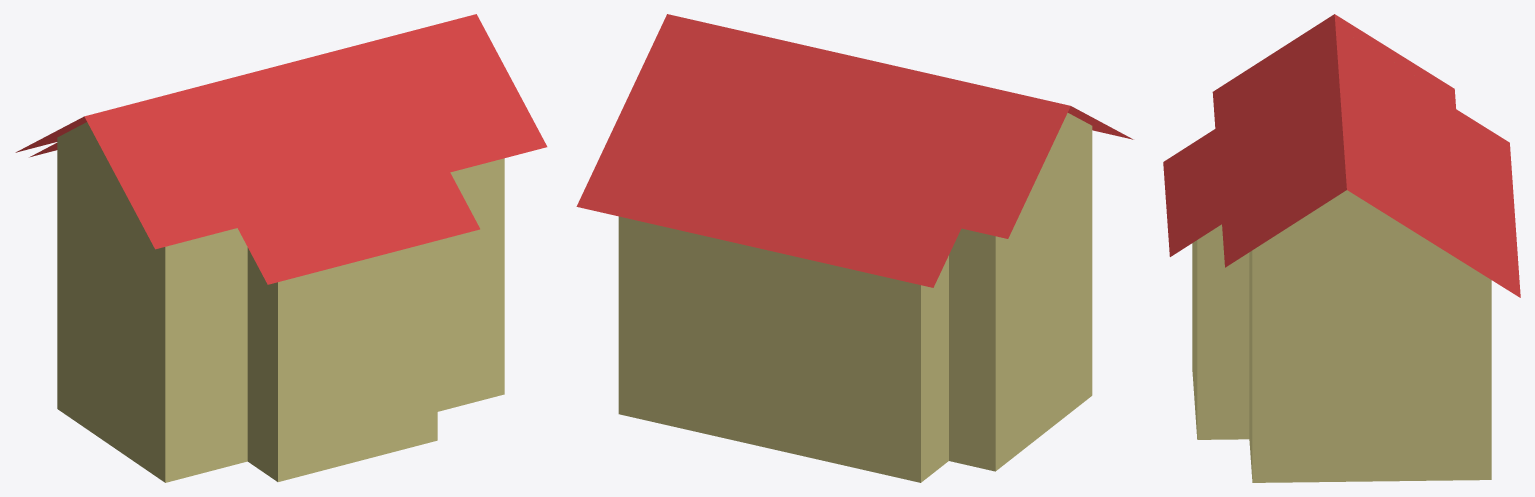
3 renders of one model, left to right at view 1: azimuth 30°, elevation 25°; view 2: azimuth 150°, elevation 25°; view 3: azimuth 270°, elevation 25°, orthographic. The views are drawn at different scales.
Size of the model in its own units: 15.01 by 12.67 by 11.88.
